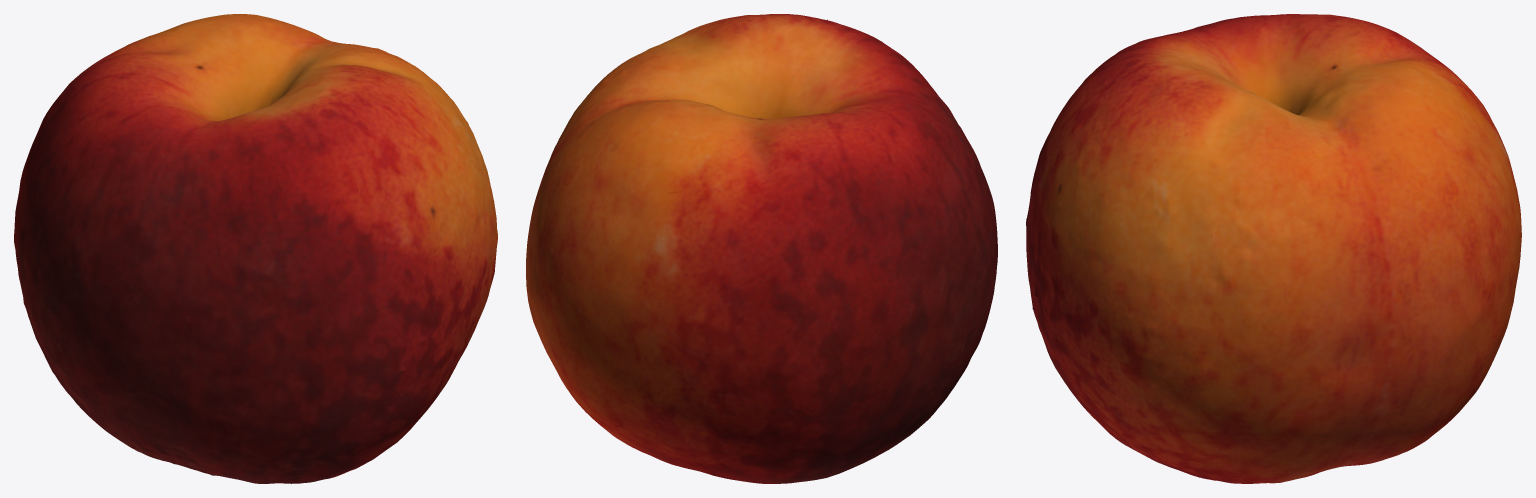
The picture shows the model from 3 angles, left to right: view 1: azimuth 30°, elevation 25°; view 2: azimuth 150°, elevation 25°; view 3: azimuth 270°, elevation 25°; orthographic projection. The views are drawn at different scales.
Parts seen in each view (by area): view 1: Model; view 2: Model; view 3: Model.
Boxes of the visible parts, <box> form: Model: <box>14,14,497,483</box>; Model: <box>526,14,997,483</box>; Model: <box>1026,14,1521,483</box>.
Bounding box in the file's own units: 1.66 × 1.49 × 1.69.
1 material, 1 textured.
